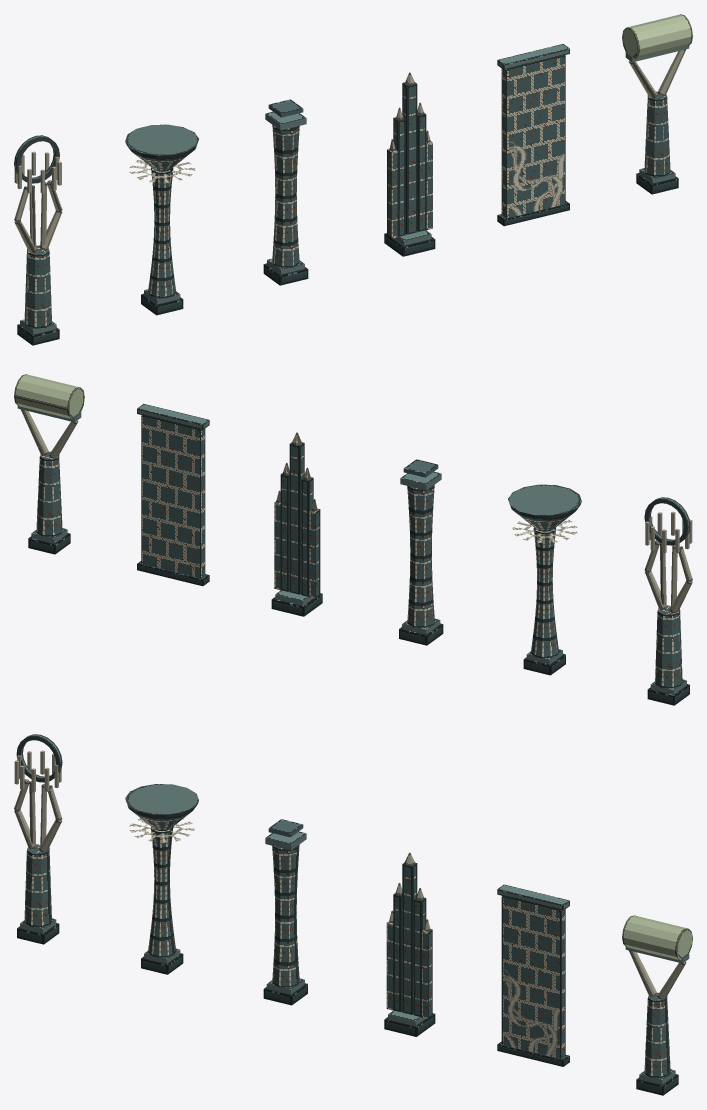
The model's file is column_pieces.gltf.
3 renders of one model, top to bottom at view 1: azimuth 30°, elevation 25°; view 2: azimuth 150°, elevation 25°; view 3: azimuth 330°, elevation 25°, orthographic.
Parts seen in each view (by area): view 1: ColumnVineWall, ColumnButtressFin, ColumnMushroom, ColumnTree, ColumnStrutConduit, ColumnLoadPier; view 2: ColumnVineWall, ColumnButtressFin, ColumnMushroom, ColumnTree, ColumnStrutConduit, ColumnLoadPier; view 3: ColumnVineWall, ColumnButtressFin, ColumnMushroom, ColumnTree, ColumnStrutConduit, ColumnLoadPier.
Boxes of the visible parts, left/top/right/bottom form: ColumnVineWall: left=497, top=44, right=569, bottom=226; ColumnButtressFin: left=384, top=72, right=435, bottom=256; ColumnMushroom: left=125, top=124, right=198, bottom=315; ColumnTree: left=14, top=135, right=62, bottom=345; ColumnStrutConduit: left=622, top=14, right=692, bottom=194; ColumnLoadPier: left=263, top=99, right=308, bottom=285; ColumnVineWall: left=137, top=403, right=209, bottom=586; ColumnButtressFin: left=271, top=432, right=322, bottom=616; ColumnMushroom: left=508, top=484, right=581, bottom=675; ColumnTree: left=644, top=497, right=692, bottom=705; ColumnStrutConduit: left=14, top=374, right=84, bottom=554; ColumnLoadPier: left=399, top=459, right=443, bottom=645; ColumnVineWall: left=497, top=884, right=569, bottom=1066; ColumnButtressFin: left=384, top=852, right=435, bottom=1036; ColumnMushroom: left=125, top=784, right=198, bottom=974; ColumnTree: left=14, top=734, right=62, bottom=944; ColumnStrutConduit: left=622, top=915, right=692, bottom=1095; ColumnLoadPier: left=263, top=819, right=307, bottom=1005.
Bounding box in the file's own units: 13.01 × 3.68 × 1.22.
Materials: 6 (6 with a texture image).
